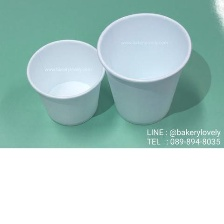paper_cup: (91, 9, 195, 129), (20, 34, 109, 129)
